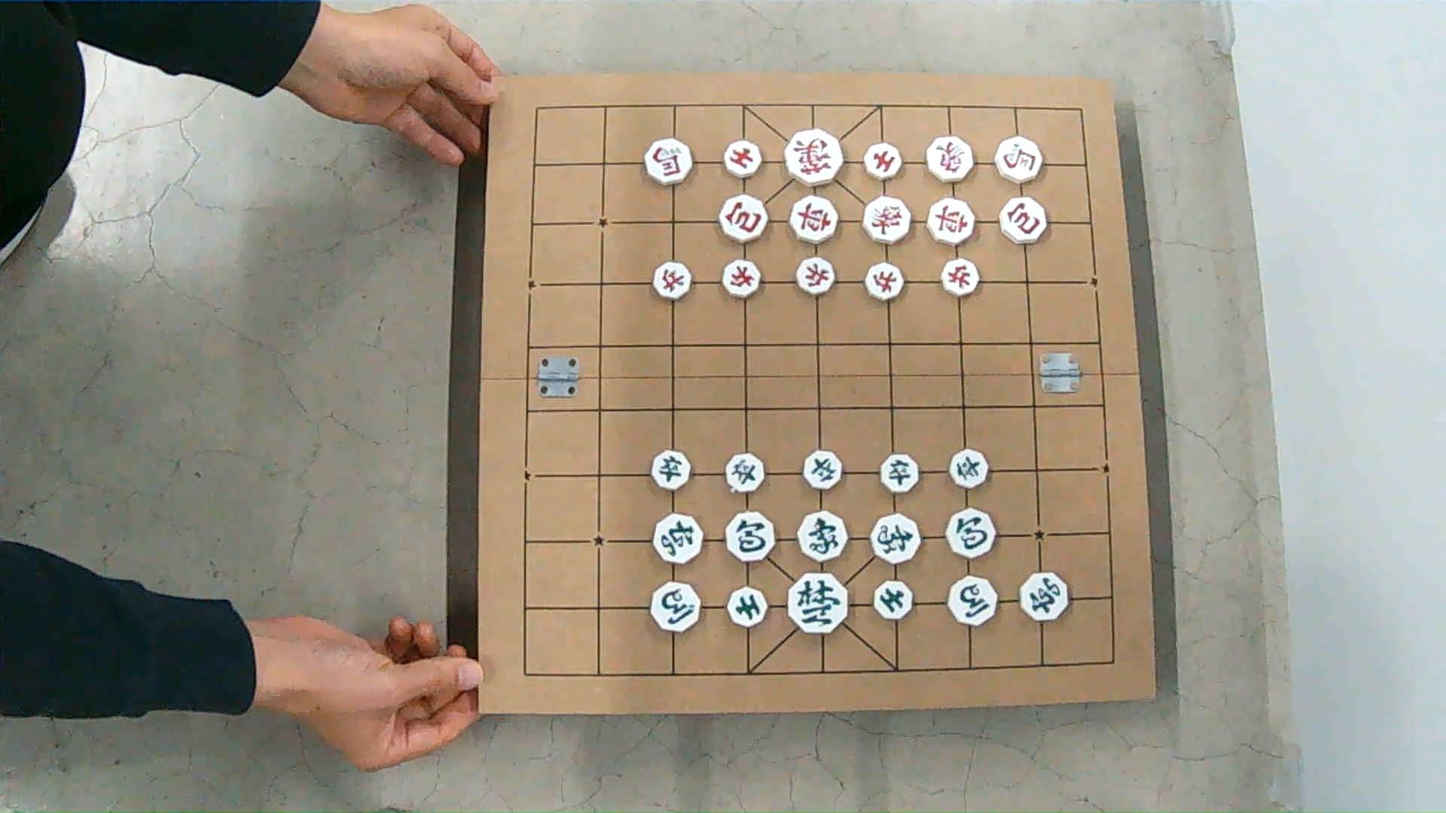cha_green: (652, 513, 702, 564), (1019, 572, 1067, 621)
cha_red: (789, 196, 837, 244), (928, 198, 974, 245)
jol_green: (651, 450, 690, 490), (725, 454, 764, 493), (880, 454, 919, 493), (950, 449, 988, 489), (804, 451, 841, 489)
jol_red: (941, 258, 979, 296), (653, 262, 691, 300), (865, 263, 903, 300), (796, 257, 834, 294), (722, 260, 760, 297)
ma_green: (947, 577, 996, 626), (651, 582, 699, 632)
ma_red: (994, 136, 1042, 183), (644, 139, 691, 185)
po_green: (725, 512, 773, 562), (947, 509, 995, 557)
po_red: (718, 195, 767, 242), (1000, 197, 1046, 243)
sa_green: (728, 586, 767, 628), (874, 580, 912, 620)
sa_red: (724, 140, 761, 178), (864, 143, 901, 180)
sang_green: (798, 511, 846, 562), (871, 514, 919, 564)
sang_red: (863, 196, 911, 244), (926, 137, 972, 182)
wang_green: (788, 572, 847, 634)
wang_red: (786, 129, 843, 186)
